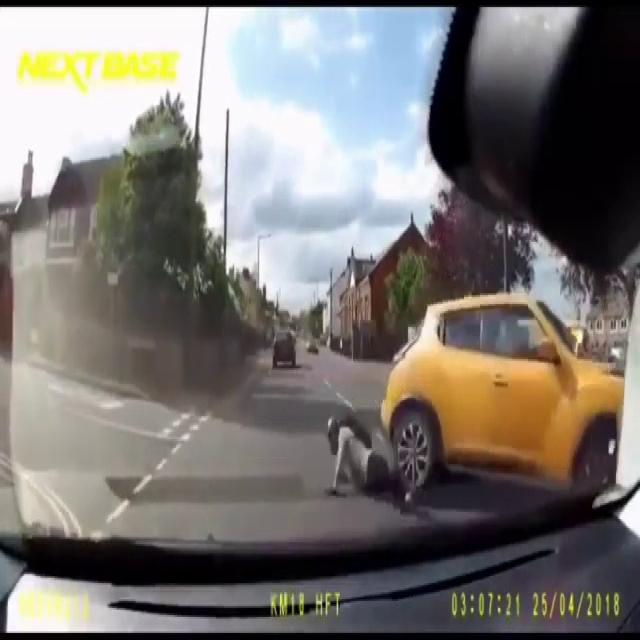severe: (323, 281, 640, 525)
